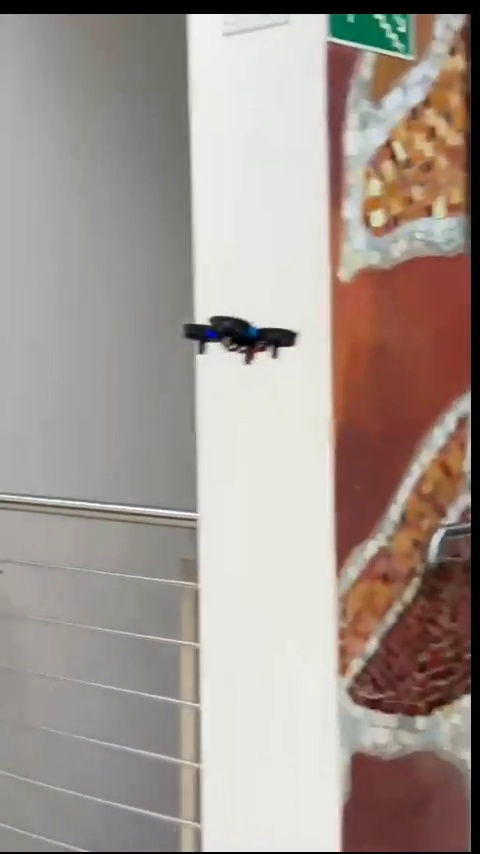drone: (188, 312, 307, 364)
